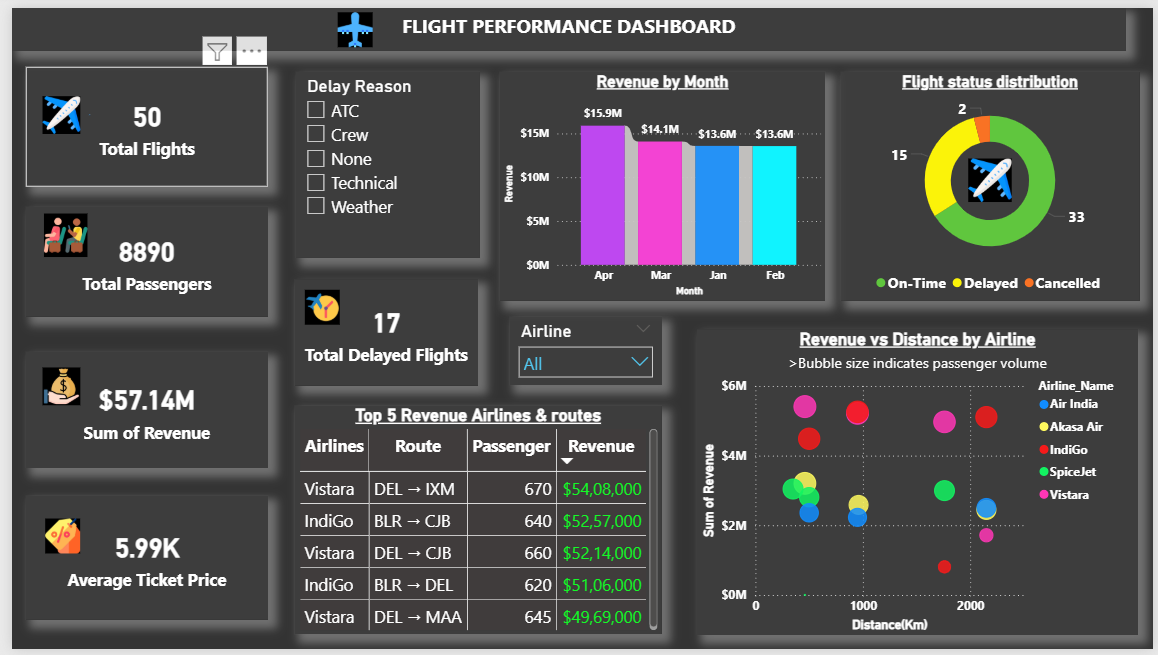

What the dashboard file says about the page in this screenshot:
{"tool":"powerbi","page":{"name":"Page 2","canvas":[1280,720],"ordinal":1},"visuals":[{"type":"scatterChart","title":"Revenue vs Distance by Airline","fields":{"X":["Flight.Distance(Km)"],"Y":["Sum(Flight.Revenue)"],"Size":["Sum(Flight.Passenger_count)"],"Series":["Flight.Airline_Name"]},"box":[768.4,360.4,495,343.6],"z":0},{"type":"card","fields":{"Values":["CountNonNull(Flight.Flight_ID)"]},"box":[15.4,65.9,272,134.6],"z":1000},{"type":"card","fields":{"Values":["Sum(Flight.Passenger_count)"]},"box":[15.4,223,272,123.4],"z":2000},{"type":"card","fields":{"Values":["Sum(Flight.Revenue)"]},"box":[15.4,385.6,272,130.4],"z":3000},{"type":"card","fields":{"Values":["Avg(Flight.Ticket_price)"]},"box":[15.4,546.9,272,138.8],"z":4000},{"type":"donutChart","title":"Flight status distribution","fields":{"Category":["Flight.Flight_Status"],"Y":["CountNonNull(Flight.Flight_ID)"]},"box":[929.7,71.5,335.1,256.6],"z":5000},{"type":"slicer","fields":{"Values":["Flight.Airline_Name"]},"box":[558.1,346.4,171.1,77.1],"z":6000},{"type":"columnChart","fields":{"Category":["Date_Table.month_short"],"Y":["Sum(Flight.Revenue)"]},"box":[546.9,71.5,366,256.6],"z":7000},{"type":"tableEx","title":"Top 5 Revenue Airlines & routes","fields":{"Values":["Flight.Airline_Name","Flight.route pair","Sum(Flight.Passenger_count)","Sum(Flight.Revenue)"]},"box":[316.9,445.9,412.3,256.6],"z":8000},{"type":"card","fields":{"Values":["CountNonNull(Flight.Flight_ID)"]},"box":[316.9,304.3,206.1,119.2],"z":9000},{"type":"slicer","fields":{"Values":["Flight.Delay_Reason"]},"box":[318.3,71.5,206.1,208.9],"z":10000},{"type":"textbox","box":[0,0,1249.4,47.7],"z":11000},{"type":"image","box":[29.4,396.8,51.9,54.7],"z":12000},{"type":"image","box":[30.9,567.9,51.9,49.1],"z":13000},{"type":"image","box":[29.4,81.3,51.9,77.1],"z":14000},{"type":"image","box":[347.8,0,74.3,49.1],"z":15000},{"type":"image","box":[302.9,311.3,89.7,49.1],"z":16000},{"type":"image","box":[81.3,81.3,11.2,77.1],"z":17000},{"type":"image","box":[1055.9,164.1,82.7,58.9],"z":18000},{"type":"image","box":[29.4,225.8,61.7,58.9],"z":19000}]}

Visuals, with their boxes in screenshot pixels (x1, y1, x2, y2), scaled from the page's 1280x720 canvas onto the 1158x655 screenshot:
"Revenue vs Distance by Airline" scatterChart: bbox(695, 328, 1143, 640)
card - CountNonNull(Flight.Flight_ID): bbox(14, 60, 260, 182)
card - Sum(Flight.Passenger_count): bbox(14, 203, 260, 315)
card - Sum(Flight.Revenue): bbox(14, 351, 260, 469)
card - Avg(Flight.Ticket_price): bbox(14, 498, 260, 624)
"Flight status distribution" donutChart: bbox(841, 65, 1144, 298)
slicer - Flight.Airline_Name: bbox(505, 315, 660, 385)
columnChart - Date_Table.month_short x Sum(Flight.Revenue): bbox(495, 65, 826, 298)
"Top 5 Revenue Airlines & routes" tableEx: bbox(287, 406, 660, 639)
card - CountNonNull(Flight.Flight_ID): bbox(287, 277, 473, 385)
slicer - Flight.Delay_Reason: bbox(288, 65, 474, 255)
textbox: bbox(0, 0, 1130, 43)
image: bbox(27, 361, 74, 411)
image: bbox(28, 517, 75, 561)
image: bbox(27, 74, 74, 144)
image: bbox(315, 0, 382, 45)
image: bbox(274, 283, 355, 328)
image: bbox(74, 74, 84, 144)
image: bbox(955, 149, 1030, 203)
image: bbox(27, 205, 82, 259)
